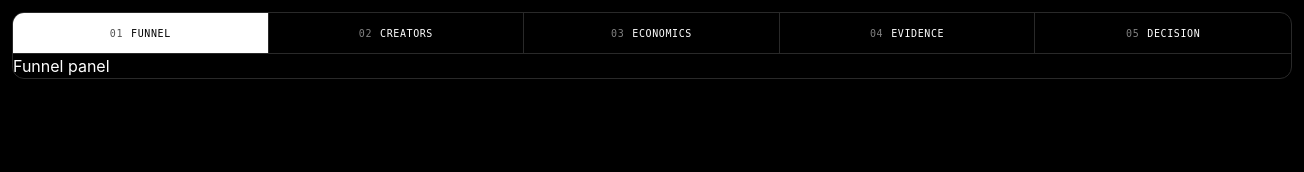
report mode dock › shows one bounded report mode at a time
Expected: the text "Funnel panel" is shown, [13,56,110,76]
Expected: the text "Creators panel" is not shown
What coordinates should you click on to do the following:
click the tab "02 Creators"
I would click on:
 (396, 33)
Its box is [269,13,524,53].
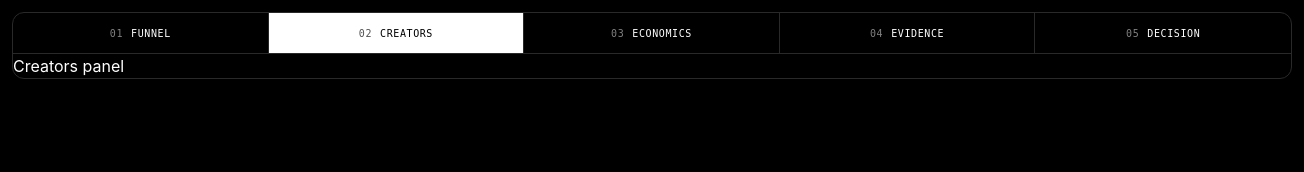
Now the text "Creators panel" is shown, box [13,56,124,76]
Now the text "Funnel panel" is gone
